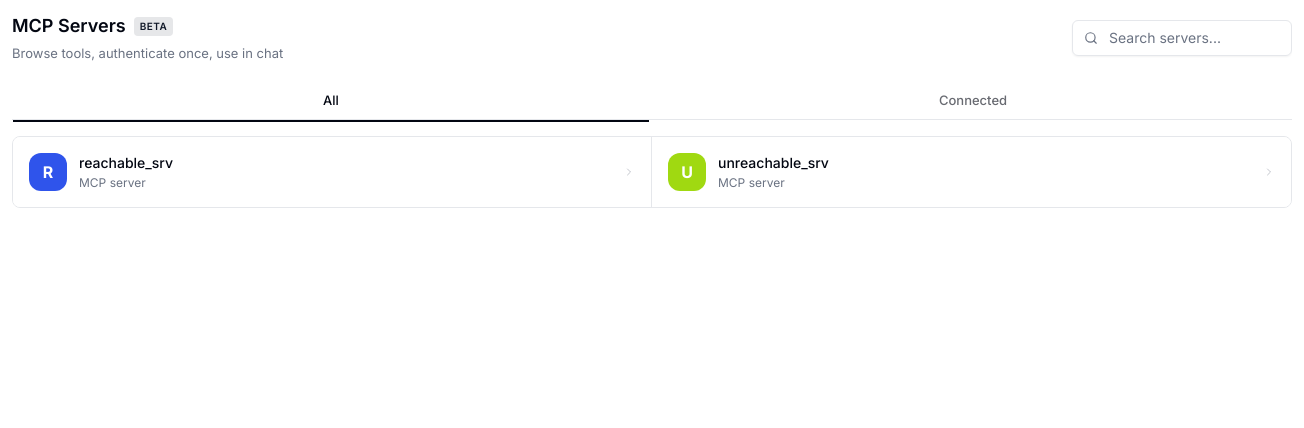
MCPAppsPanel connected-app reachability (LIT-4861) › keeps the detail-view Connect action outside connect mode
Click the text "unreachable_srv".
click(773, 162)  # box [718, 154, 829, 170]
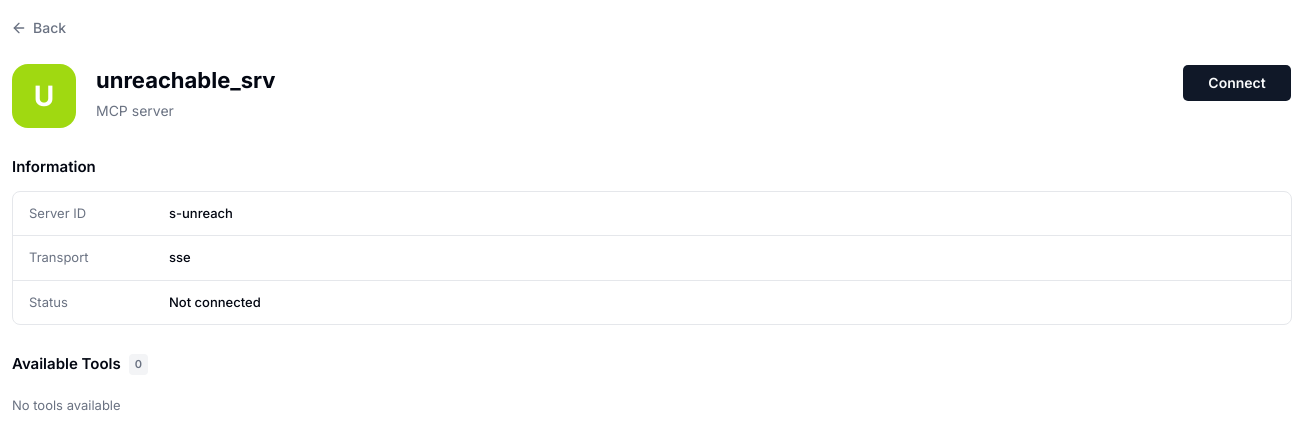
Expected: the heading "unreachable_srv" is shown, [96, 67, 276, 93]
Expected: the button "Connect" is shown, [1182, 64, 1292, 102]
